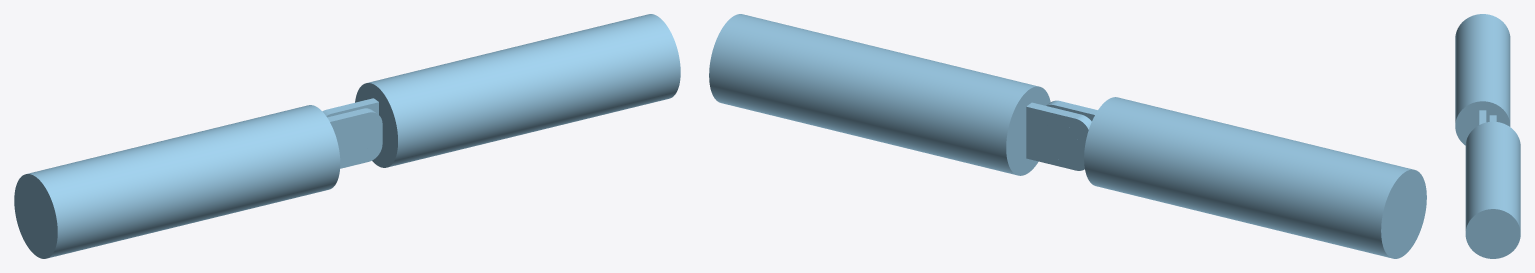
Rendered from Assembly 1.dae.
3 views of the same model, side by side, from view 1: azimuth 30°, elevation 25°; view 2: azimuth 150°, elevation 25°; view 3: azimuth 270°, elevation 25° (orthographic). The views are drawn at different scales.
Visible parts, largest first — view 1: Part 1 (×3); view 2: Part 1 (×3); view 3: Part 1 (×2).
Part boxes in pixels (<box>): Part 1 (×3): <box>14,14,680,258</box>; Part 1 (×3): <box>709,14,1426,258</box>; Part 1 (×2): <box>1455,14,1520,258</box>.
Size of the model in its own units: 0.67 by 0.095 by 0.08.
